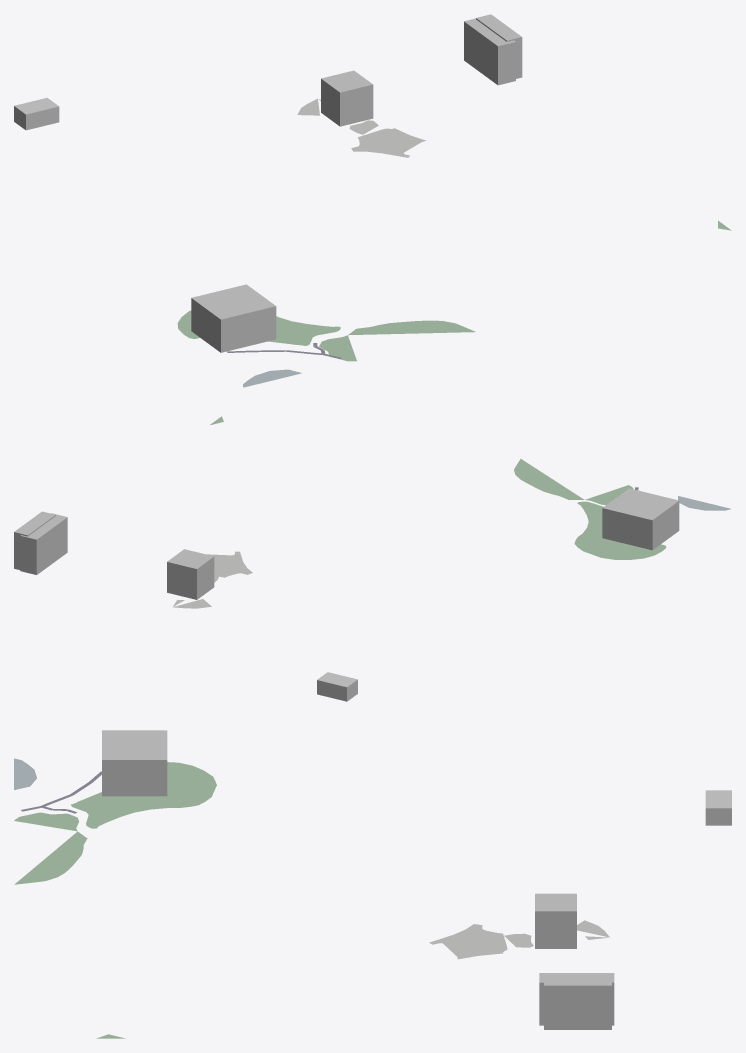
File: 132_119_mid.glb
The picture shows the model from 3 angles, top to bottom: view 1: azimuth 30°, elevation 25°; view 2: azimuth 150°, elevation 25°; view 3: azimuth 270°, elevation 25°; orthographic projection. The views are drawn at different scales.
Bounding box in the file's own units: 471 × 41.41 × 508.
